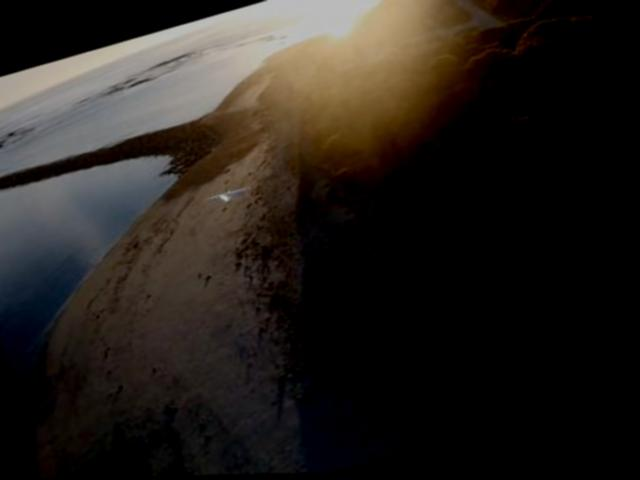uav: (203, 178, 256, 209)
